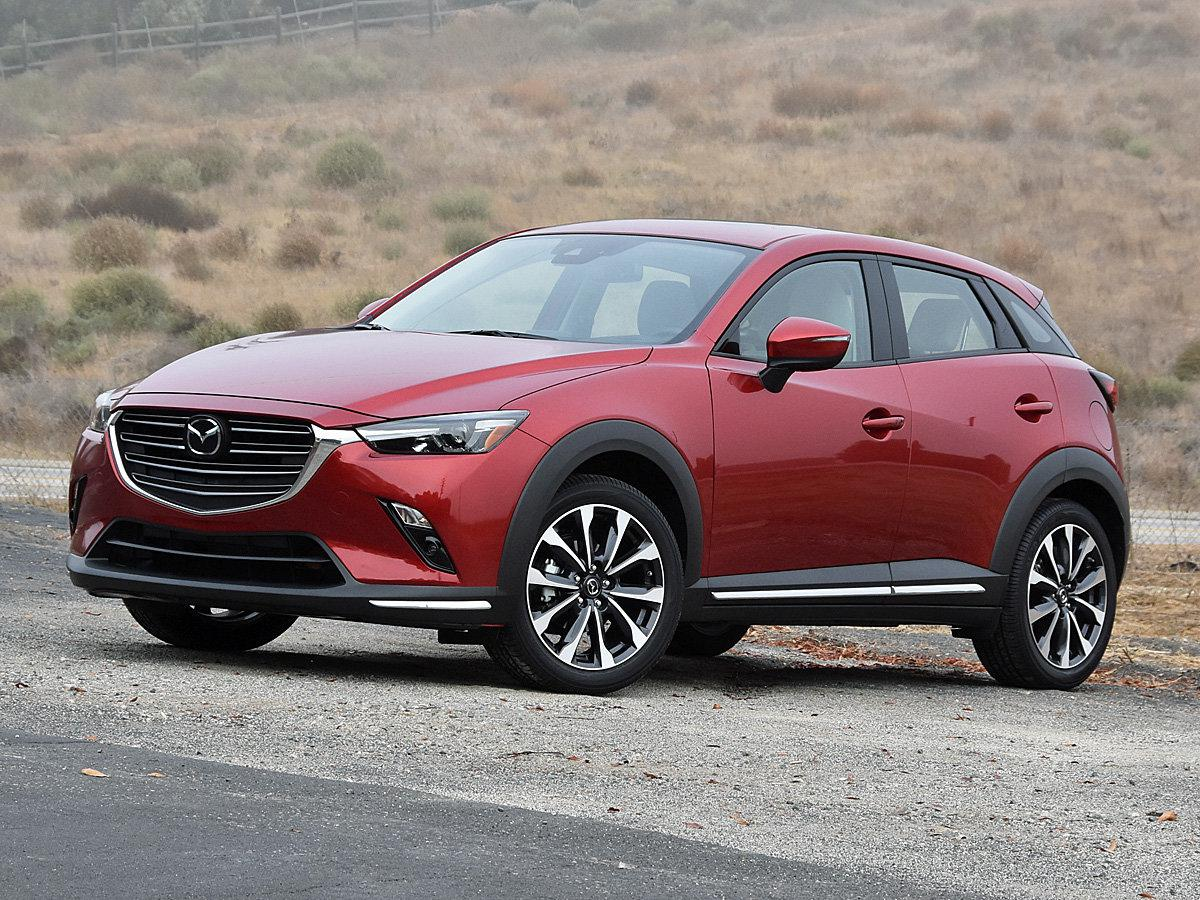car: (51, 198, 1165, 703)
